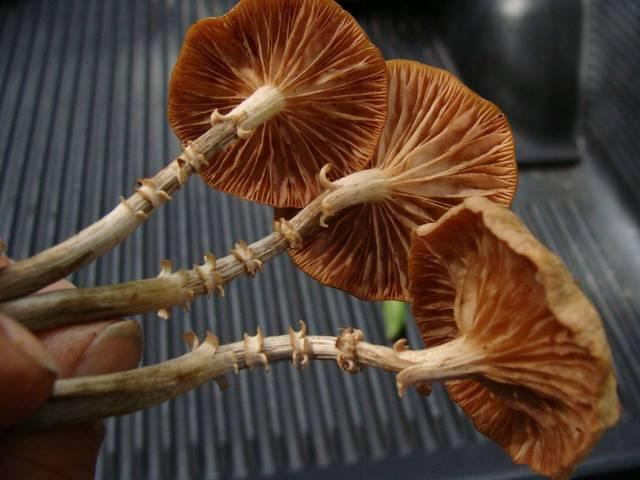edible_mushroom: (14, 206, 619, 480), (0, 68, 519, 302), (0, 6, 389, 268)
